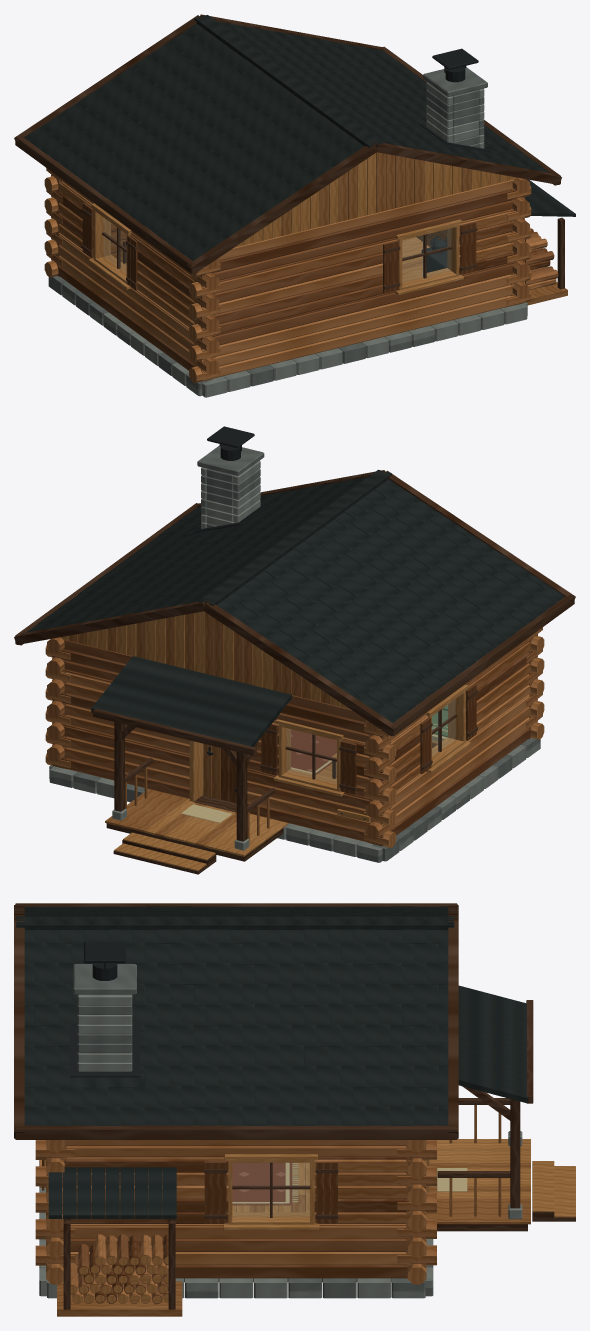
Rendered from cabin_cozy_lowpoly.glb.
3 renders of one model, top to bottom at view 1: azimuth 30°, elevation 25°; view 2: azimuth 150°, elevation 25°; view 3: azimuth 270°, elevation 25°, orthographic. The views are drawn at different scales.
Visible parts, largest first — view 1: Roof, Exterior_Walls, Foundation, Chimney, Window_Frame_02, Window_Frame_03, Exterior_Props, Window_Glass_02, Firewood_Stack, Floor, Interior_Walls, Window_Glass_03; view 2: Roof, Exterior_Walls, Porch, Foundation, Chimney, Window_Frame_01, Window_Frame_03, Porch_Steps, Window_Glass_01, Exterior_Props, Door_Main, Rug (+2 smaller); view 3: Roof, Exterior_Walls, Porch, Exterior_Props, Chimney, Window_Frame_04, Firewood_Stack, Foundation, Window_Glass_04, Rug, Porch_Steps, Floor.
Part boxes in pixels (x1,y1,x2,y2): Roof: [14, 14, 561, 273]; Exterior_Walls: [44, 152, 531, 383]; Foundation: [48, 276, 527, 397]; Chimney: [419, 48, 491, 152]; Window_Frame_02: [383, 219, 477, 294]; Window_Frame_03: [81, 203, 137, 290]; Exterior_Props: [524, 179, 575, 305]; Window_Glass_02: [403, 229, 450, 281]; Firewood_Stack: [526, 228, 558, 289]; Floor: [121, 237, 429, 278]; Interior_Walls: [57, 179, 512, 378]; Window_Glass_03: [104, 218, 125, 272]; Roof: [14, 469, 575, 736]; Exterior_Walls: [45, 611, 544, 847]; Porch: [91, 656, 291, 861]; Foundation: [49, 738, 540, 862]; Chimney: [193, 426, 268, 532]; Window_Frame_01: [260, 719, 356, 796]; Window_Frame_03: [420, 684, 477, 773]; Porch_Steps: [113, 832, 216, 874]; Window_Glass_01: [287, 729, 336, 783]; Exterior_Props: [125, 758, 370, 842]; Door_Main: [203, 743, 236, 803]; Rug: [291, 729, 336, 774]; Roof: [14, 903, 458, 1139]; Exterior_Walls: [35, 1140, 436, 1284]; Porch: [426, 985, 533, 1231]; Exterior_Props: [48, 1098, 510, 1316]; Chimney: [70, 941, 139, 1077]; Window_Frame_04: [204, 1154, 338, 1229]; Firewood_Stack: [70, 1234, 168, 1304]; Foundation: [39, 1187, 433, 1298]; Window_Glass_04: [233, 1163, 309, 1216]; Rug: [232, 1162, 298, 1205]; Porch_Steps: [532, 1161, 575, 1221]; Floor: [184, 1162, 391, 1282].
Bounding box in the file's own units: 9.87 × 6 × 9.63.
Materials: 11 (9 with a texture image).
